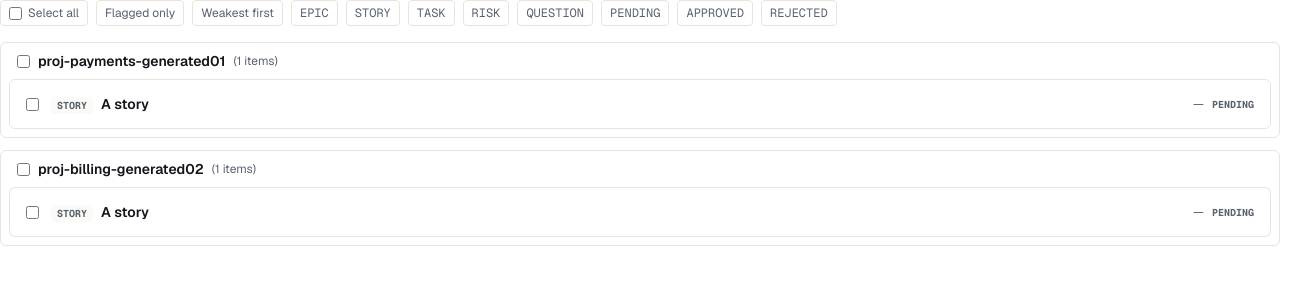
Test: ReviewQueue run grouping › a group's own select-all only selects that group's items
This screenshot has width=1292, height=297.
Click the checkbox next to "proj-payments-generated01". click: coordinates (24, 61)
box: [17,54,30,68]
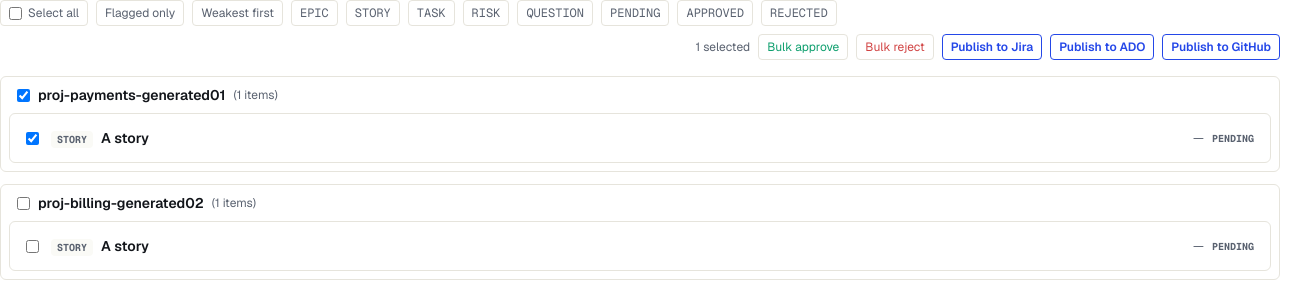
Expected: the text "1 selected" is shown, [696,39,750,55]
